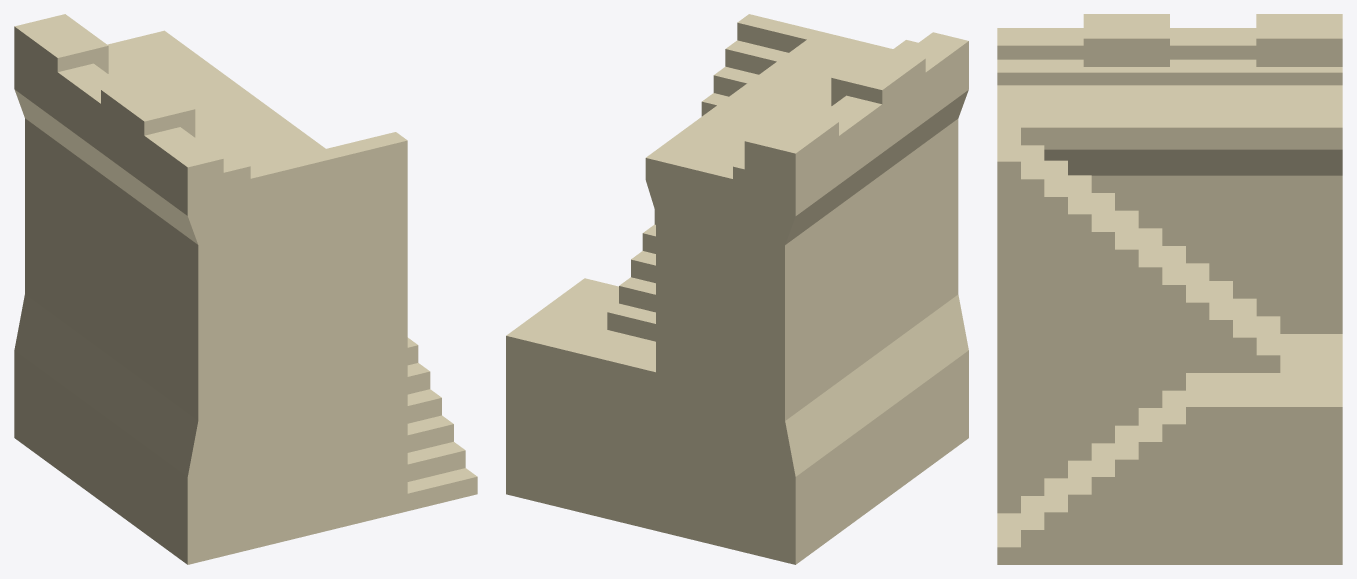
Rendered from wallnarrowstairs.glb.
3 renders of one model, left to right at view 1: azimuth 30°, elevation 25°; view 2: azimuth 150°, elevation 25°; view 3: azimuth 270°, elevation 25°, orthographic.
Visible parts, largest first — view 1: wallNarrowStairs; view 2: wallNarrowStairs; view 3: wallNarrowStairs.
Part boxes in pixels (x1,y1,x2,y2): wallNarrowStairs: [14, 14, 477, 564]; wallNarrowStairs: [506, 14, 968, 564]; wallNarrowStairs: [997, 14, 1342, 564].
Bounding box in the file's own units: 9.65 × 13.1 × 10.
